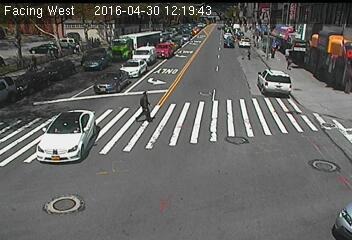neg: (77, 107, 110, 151), (150, 195, 177, 232), (227, 118, 252, 152), (211, 66, 236, 100), (23, 66, 48, 100), (28, 7, 52, 39), (66, 190, 88, 220), (303, 153, 325, 182), (324, 58, 346, 87), (67, 42, 89, 71), (39, 154, 60, 182), (309, 99, 329, 125), (110, 56, 126, 77), (143, 8, 158, 27), (176, 32, 190, 51), (147, 49, 161, 67), (61, 7, 71, 19)
pos: (131, 88, 160, 126), (282, 51, 297, 72), (267, 46, 281, 66), (245, 45, 258, 62)
